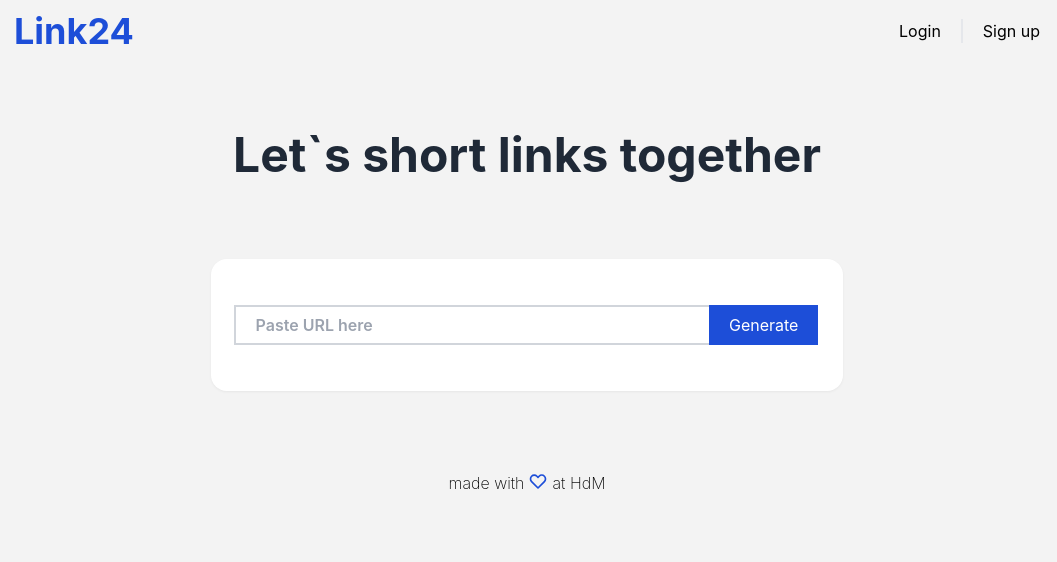
verify correct request and response › should diplay shortend URL with mock
Step 1. Type "hdm-stuttgart.de" into the field with test id "LinkInput" → (473, 325), box [236, 307, 709, 343]
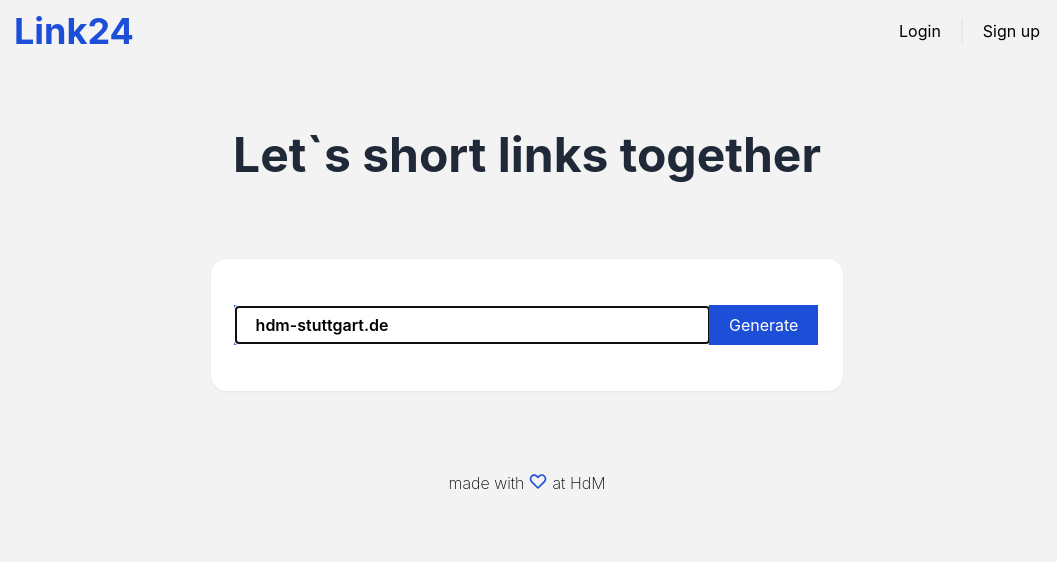
Step 2. Click the button with test id "button" → (764, 325), box [709, 305, 819, 345]
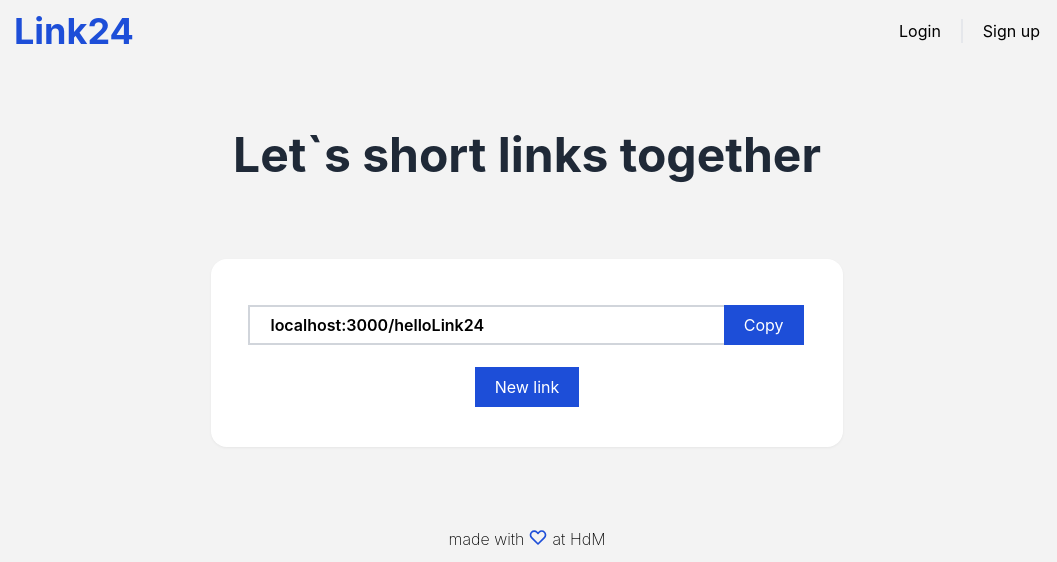
Result: the field with test id "LinkInput" holds "localhost:3000/helloLink24" at [250, 307, 723, 343]
